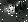person: (5, 5, 11, 16), (17, 3, 22, 15), (11, 5, 15, 15)
